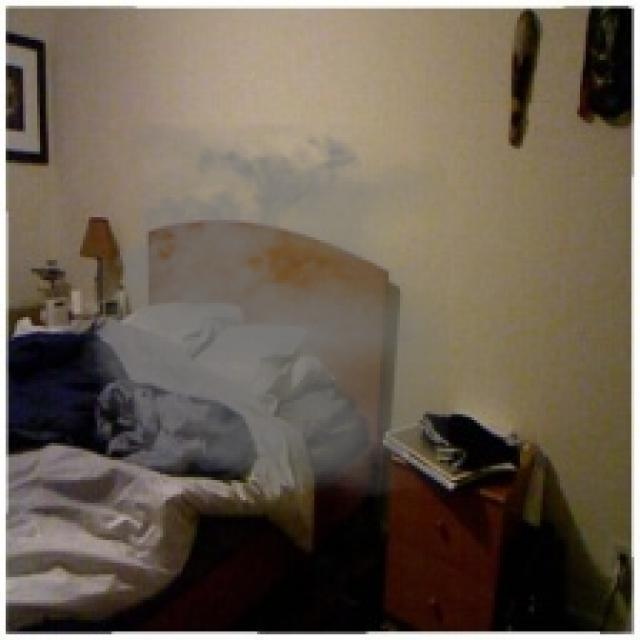Smoke: (69, 122, 448, 498)
